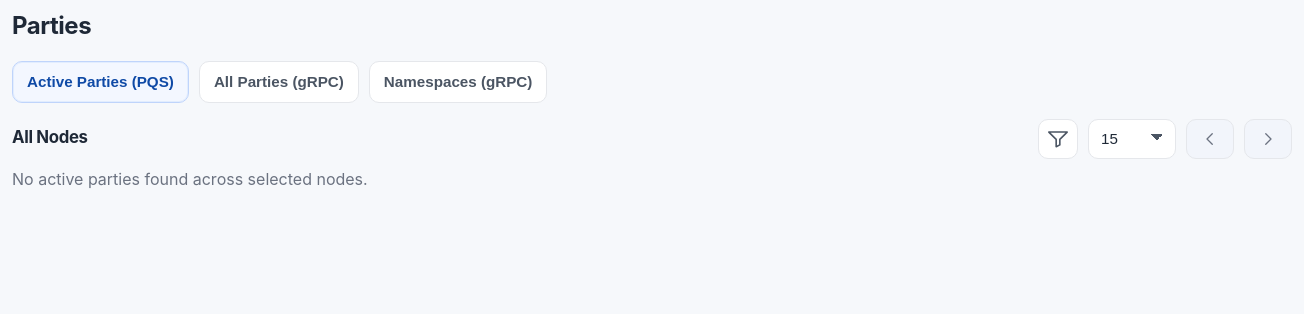
Test case: PartiesView › shows a grpc error message instead of the empty-state copy when local party loading fails
Click the button "All Parties (gRPC)" at (279, 82), box 199,61 -> 359,103
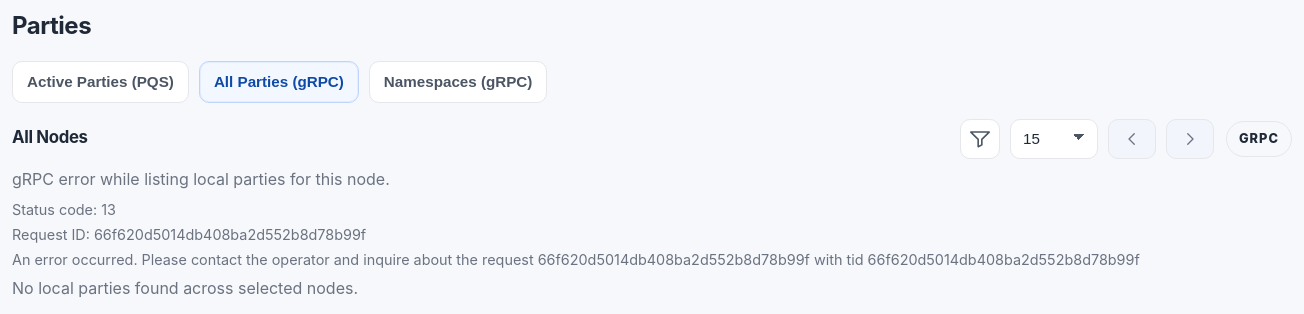
Expected: the text "gRPC error while listing local parties for this node." is shown, 12,169 -> 390,189
Expected: the text "Status code: 13" is shown, 12,201 -> 116,218
Expected: the text "Request ID: 66f620d5014db408ba2d552b8d78b99f" is shown, 12,226 -> 366,243
